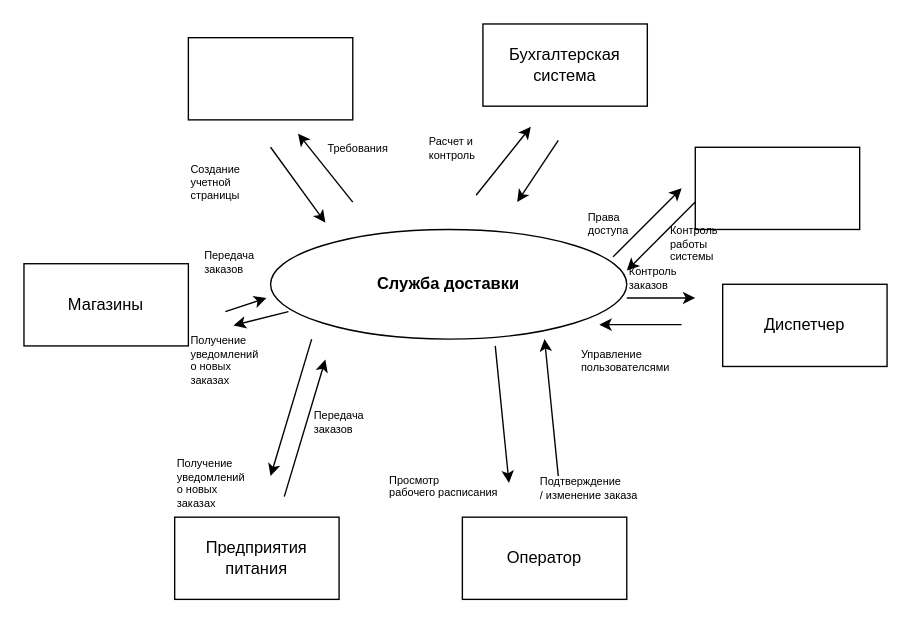
This 911x623 diagram has some shape labels left out. Each missing label, with the centre of its shape:
"Администратор" goes at point 777,187.
"Разработчики основатели" goes at point 270,78.
